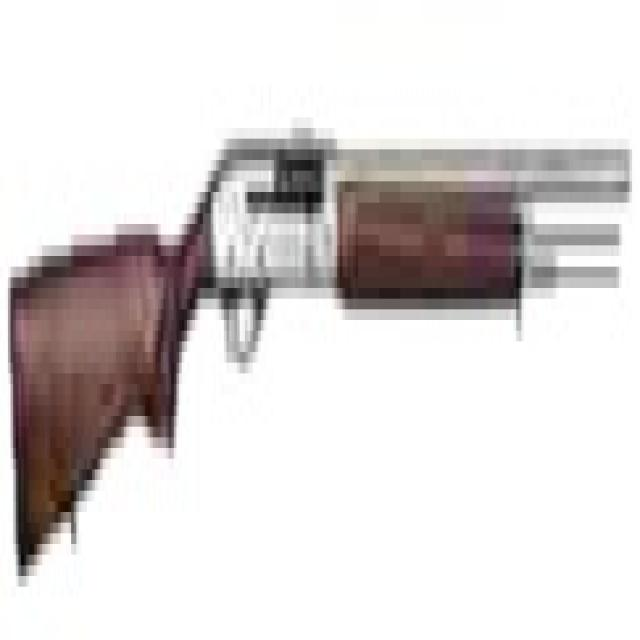rifle: (6, 84, 635, 613)
